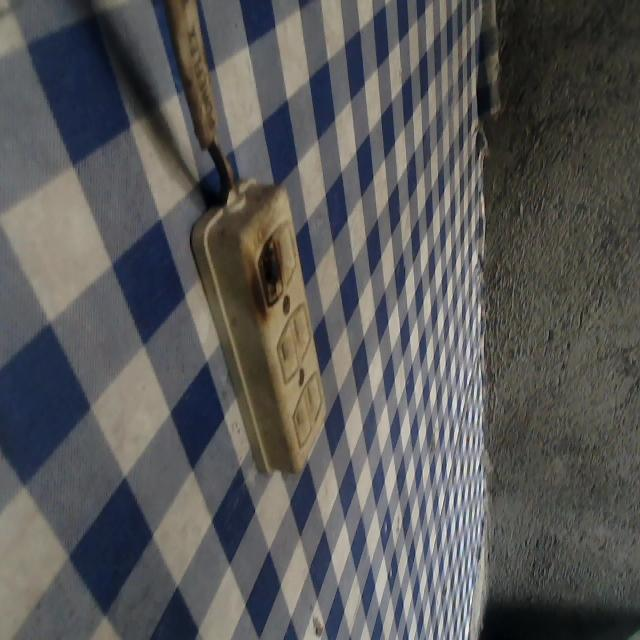-: (247, 232, 288, 313)
